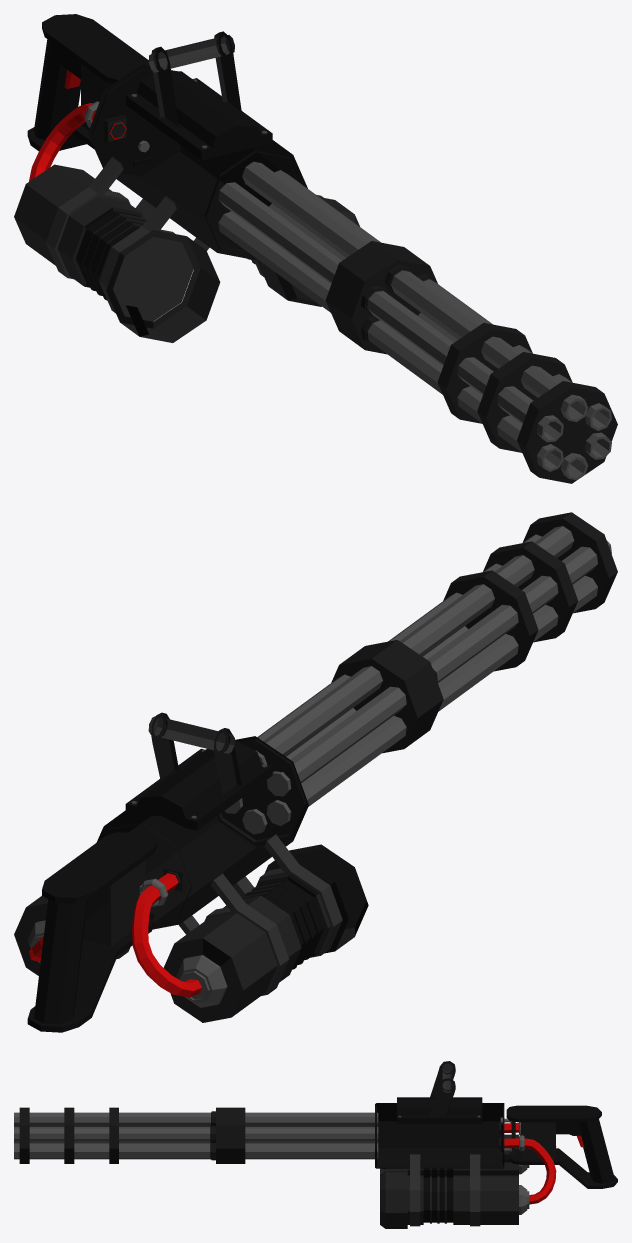
The model's file is minigun.obj.
3 renders of one model, top to bottom at view 1: azimuth 30°, elevation 25°; view 2: azimuth 150°, elevation 25°; view 3: azimuth 270°, elevation 25°, orthographic. The views are drawn at different scales.
Visible parts, largest first — view 1: Minigun_Material.001_0, Minigun_Material.002_0, Minigun_Material.003_0, Minigun_Material.005_0, Minigun_Material_0, Minigun_Material.004_0, Minigun_Material.014_0, Minigun_Material.011_0, Minigun_Material.007_0, Minigun_Material.012_0, Minigun_Material.010_0; view 2: Minigun_Material.001_0, Minigun_Material.002_0, Minigun_Material.005_0, Minigun_Material.014_0, Minigun_Material_0, Minigun_Material.003_0, Minigun_Material.004_0, Minigun_Material.007_0, Minigun_Material.010_0, Minigun_Material.011_0, Minigun_Material.006_0, Minigun_Material.012_0; view 3: Minigun_Material.001_0, Minigun_Material.003_0, Minigun_Material.005_0, Minigun_Material.014_0, Minigun_Material.002_0, Minigun_Material_0, Minigun_Material.004_0, Minigun_Material.010_0, Minigun_Material.007_0, Minigun_Material.011_0, Minigun_Material.006_0, Minigun_Material.012_0.
Part boxes in pixels (x1,y1,x2,y2): Minigun_Material.001_0: (218,161,611,480); Minigun_Material.002_0: (221,160,617,483); Minigun_Material.003_0: (88,64,307,259); Minigun_Material.005_0: (14,164,359,342); Minigun_Material_0: (75,70,272,336); Minigun_Material.004_0: (46,156,323,321); Minigun_Material.014_0: (27,14,149,150); Minigun_Material.011_0: (151,31,242,127); Minigun_Material.007_0: (29,70,126,181); Minigun_Material.012_0: (148,35,234,72); Minigun_Material.010_0: (81,64,126,141); Minigun_Material.001_0: (224,526,611,834); Minigun_Material.002_0: (217,512,617,845); Minigun_Material.005_0: (14,844,366,1022); Minigun_Material.014_0: (27,832,156,1032); Minigun_Material_0: (125,740,368,969); Minigun_Material.003_0: (96,736,308,929); Minigun_Material.004_0: (116,834,342,995); Minigun_Material.007_0: (29,873,202,997); Minigun_Material.010_0: (83,860,180,946); Minigun_Material.011_0: (151,712,242,795); Minigun_Material.006_0: (28,920,227,1007); Minigun_Material.012_0: (148,716,234,753); Minigun_Material.001_0: (14,1112,378,1159); Minigun_Material.003_0: (375,1103,504,1168); Minigun_Material.005_0: (380,1134,518,1228); Minigun_Material.014_0: (506,1105,617,1188); Minigun_Material.002_0: (19,1107,245,1163); Minigun_Material_0: (382,1097,581,1222); Minigun_Material.004_0: (409,1154,480,1226); Minigun_Material.010_0: (499,1121,555,1159); Minigun_Material.007_0: (504,1123,583,1204); Minigun_Material.011_0: (429,1061,455,1116); Minigun_Material.006_0: (519,1165,529,1214); Minigun_Material.012_0: (442,1063,453,1092).
Bounding box in the file's own units: 23.58 × 22.61 × 90.15.
